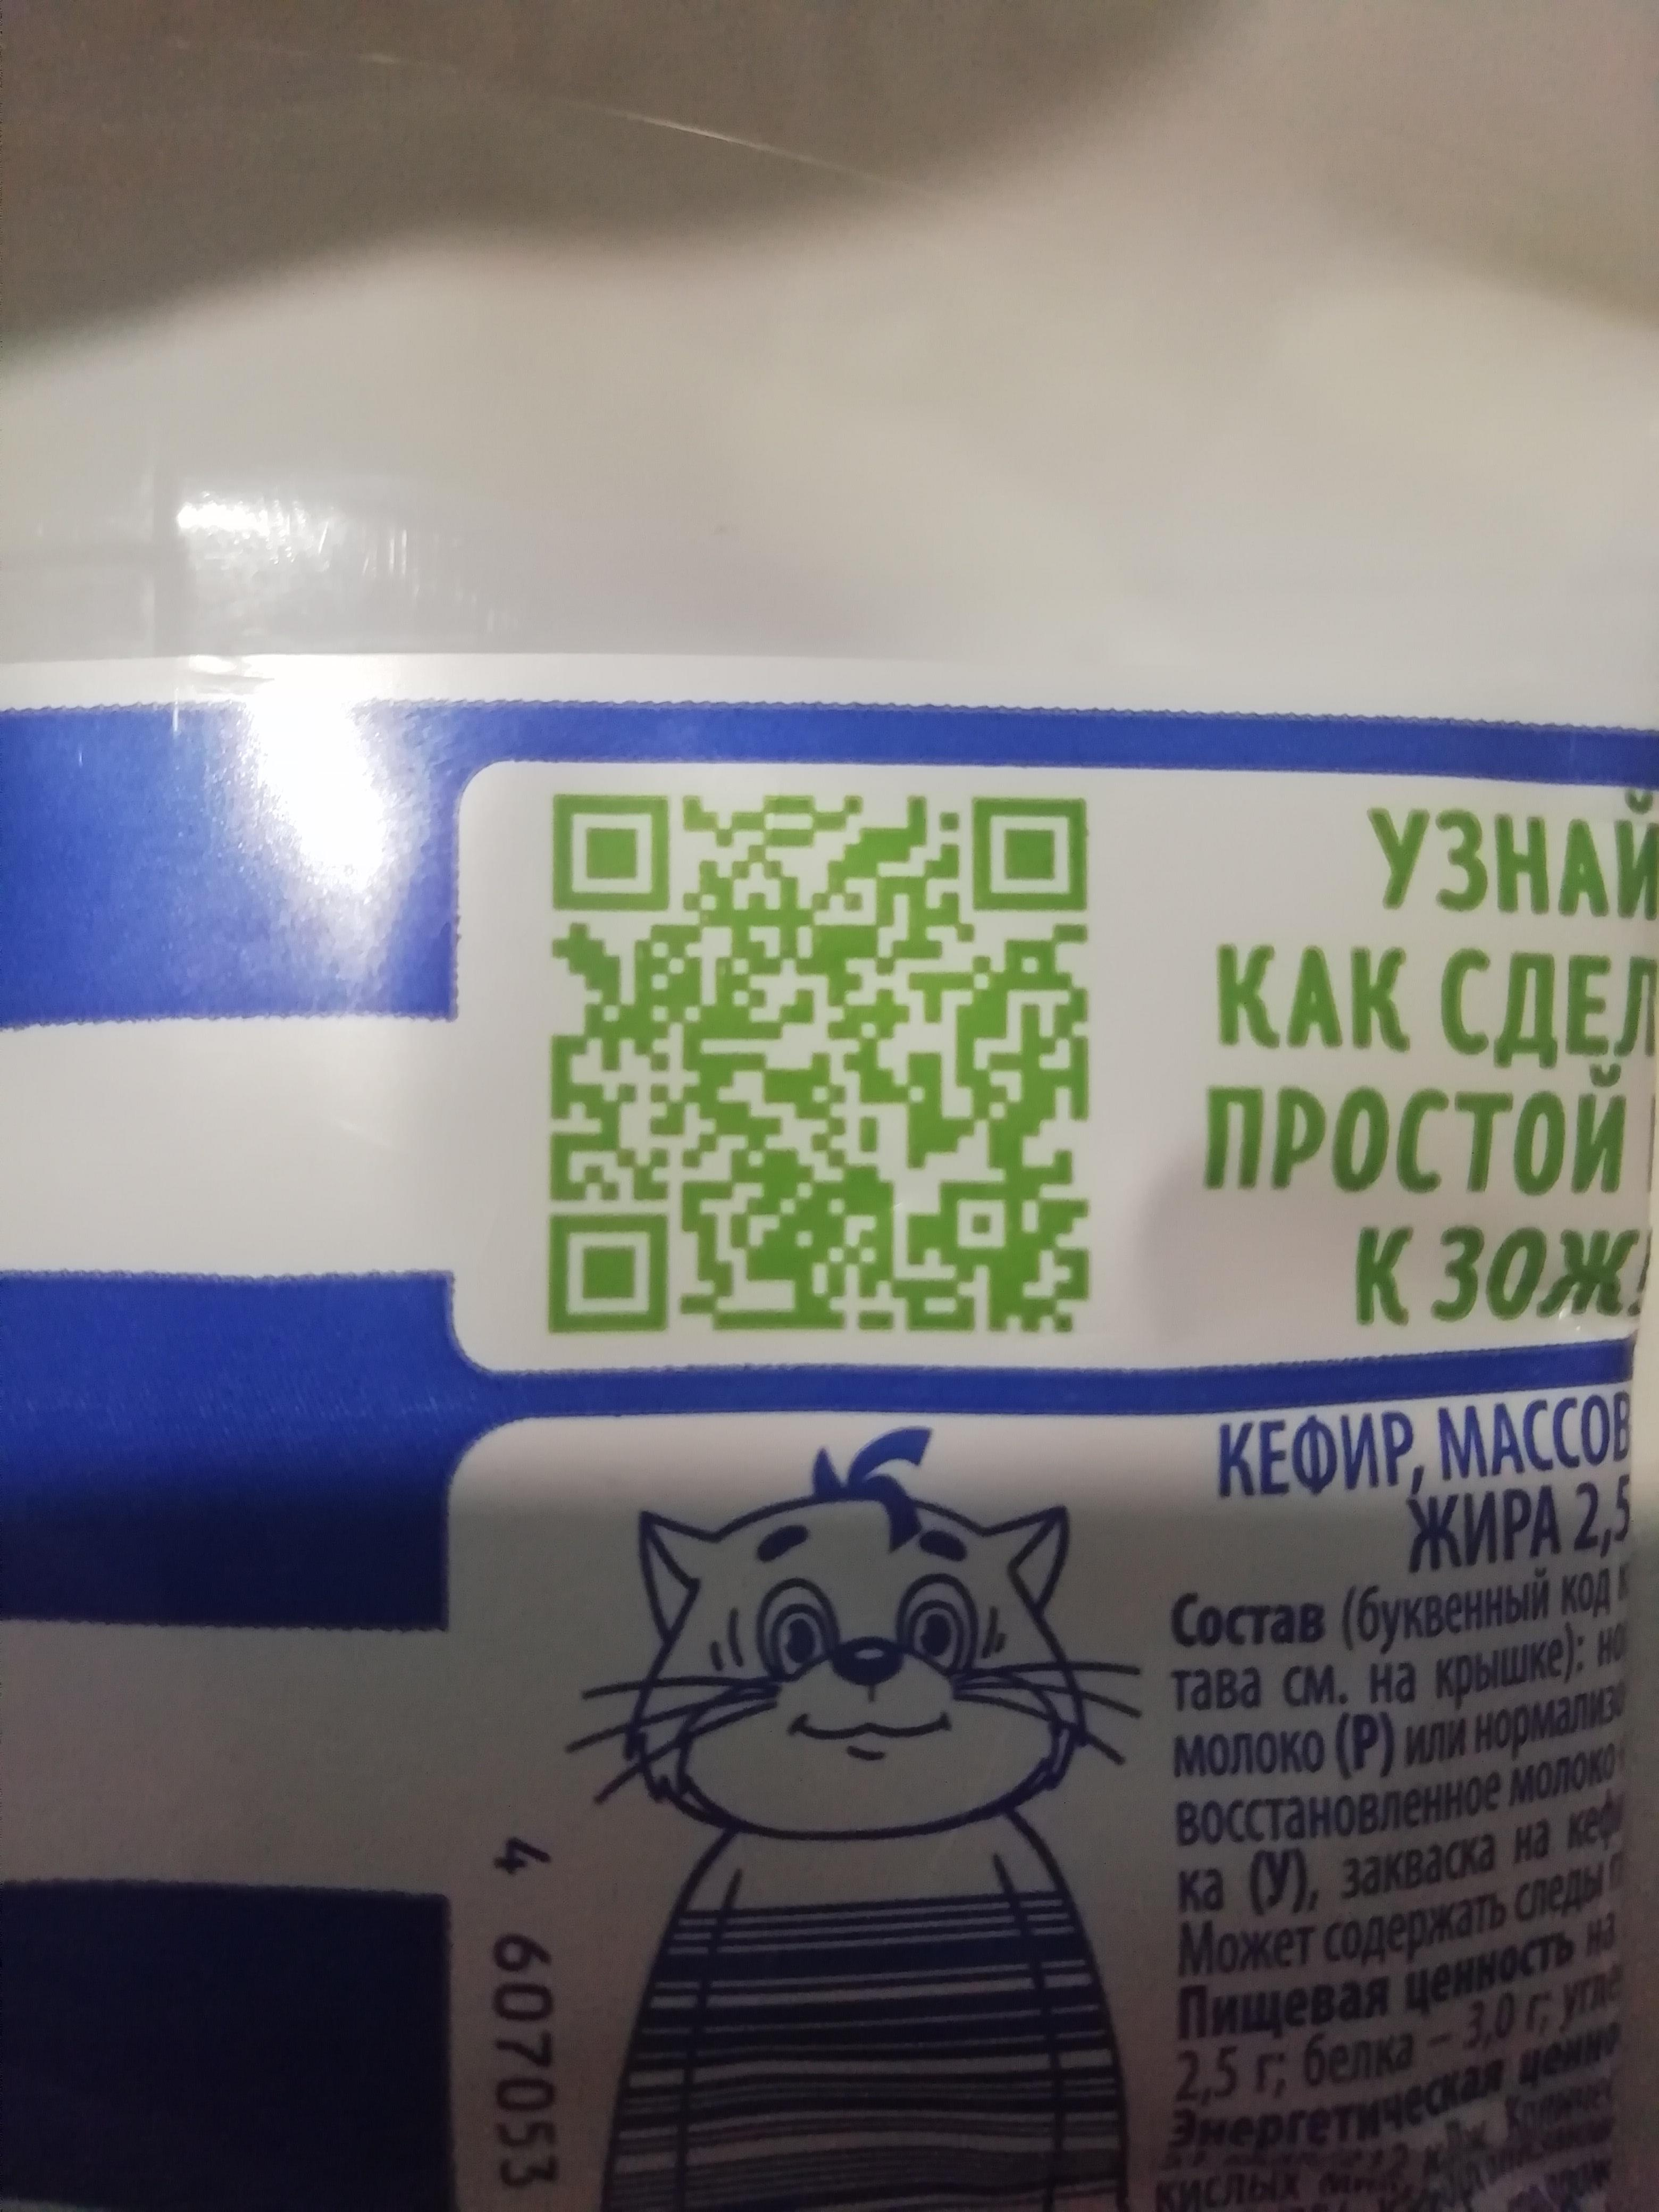qrcode: (551, 792, 1091, 1336)
